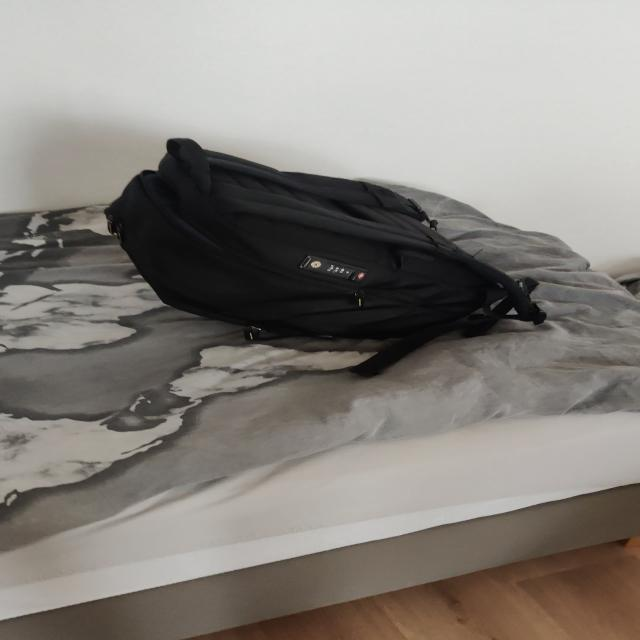backpack: (92, 133, 540, 368)
